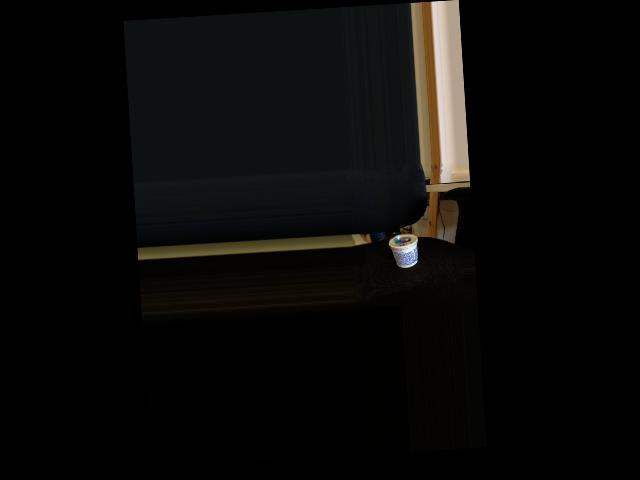cotage: (388, 230, 416, 269)
